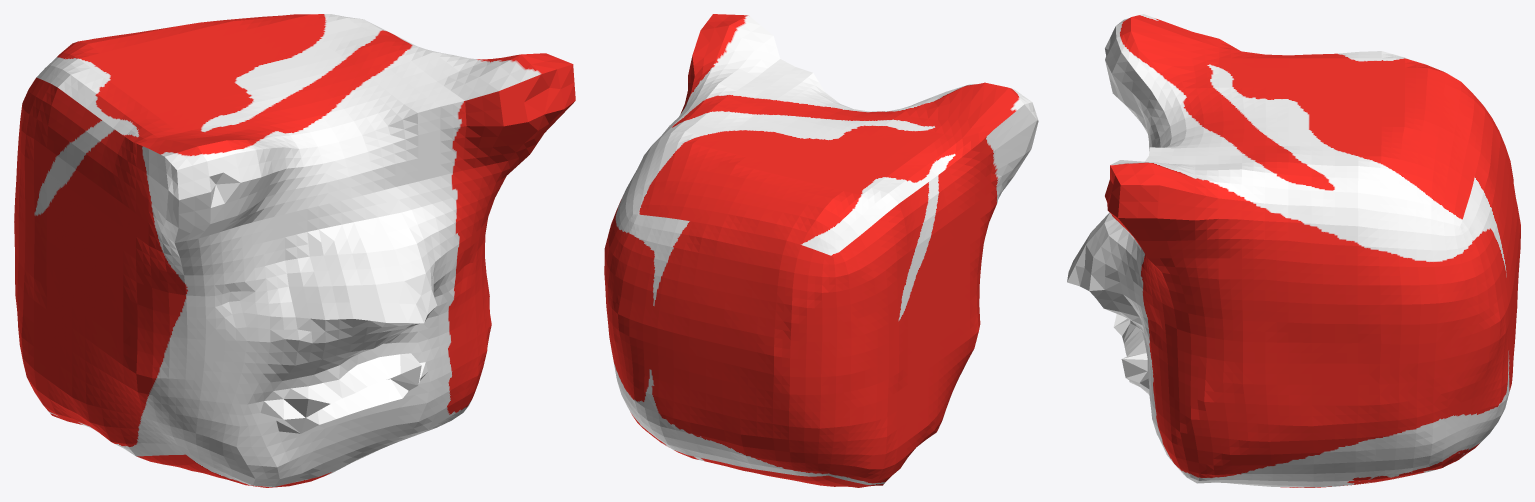
Rendered from littleman2.obj.
3 renders of one model, left to right at view 1: azimuth 30°, elevation 25°; view 2: azimuth 150°, elevation 25°; view 3: azimuth 270°, elevation 25°, orthographic. The views are drawn at different scales.
Visible parts, largest first — view 1: Cube; view 2: Cube; view 3: Cube.
Boxes of the visible parts, left/top/right/bottom form: Cube: left=14, top=14, right=575, bottom=487; Cube: left=604, top=14, right=1038, bottom=487; Cube: left=1067, top=14, right=1520, bottom=487.
Size of the model in its own units: 2.28 by 2.17 by 2.45.
